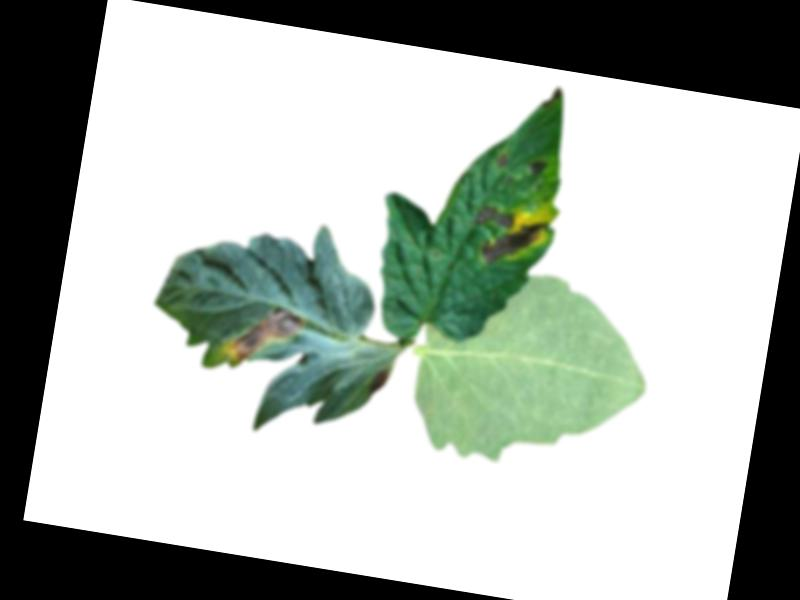Early_blight: (220, 298, 307, 377), (468, 202, 550, 275), (541, 84, 565, 112), (528, 157, 552, 180), (494, 156, 510, 170)
healthy: (394, 255, 668, 488)
